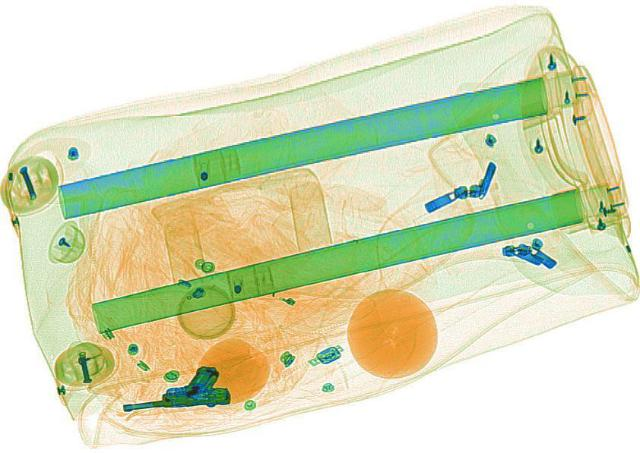Gun: (115, 363, 228, 410)
